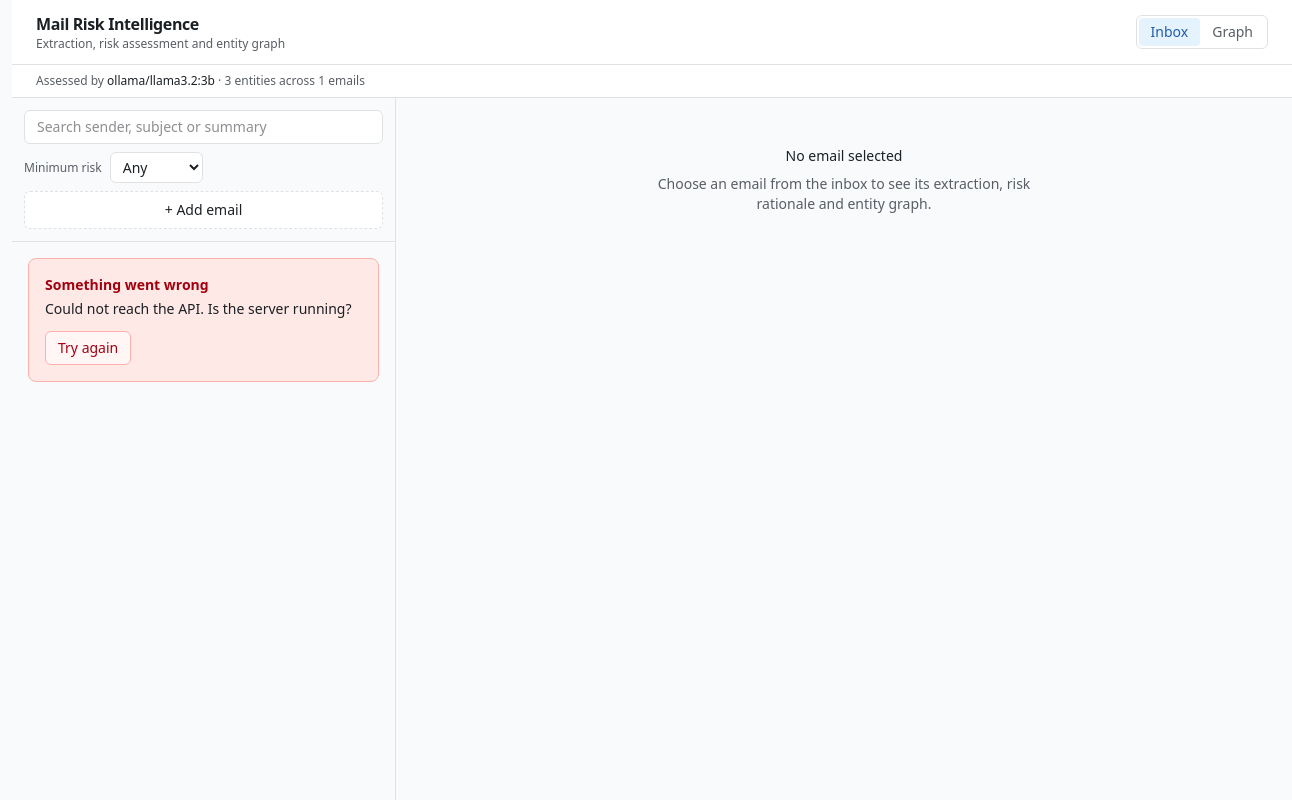
Test: App › shows a retryable error when the API is down, then recovers
Expected: the message shows "Could not reach the API", top-left (45, 299), bottom-right (352, 318)
Click the button "Try again".
click(88, 348)  # box top-left (45, 331), bottom-right (131, 365)
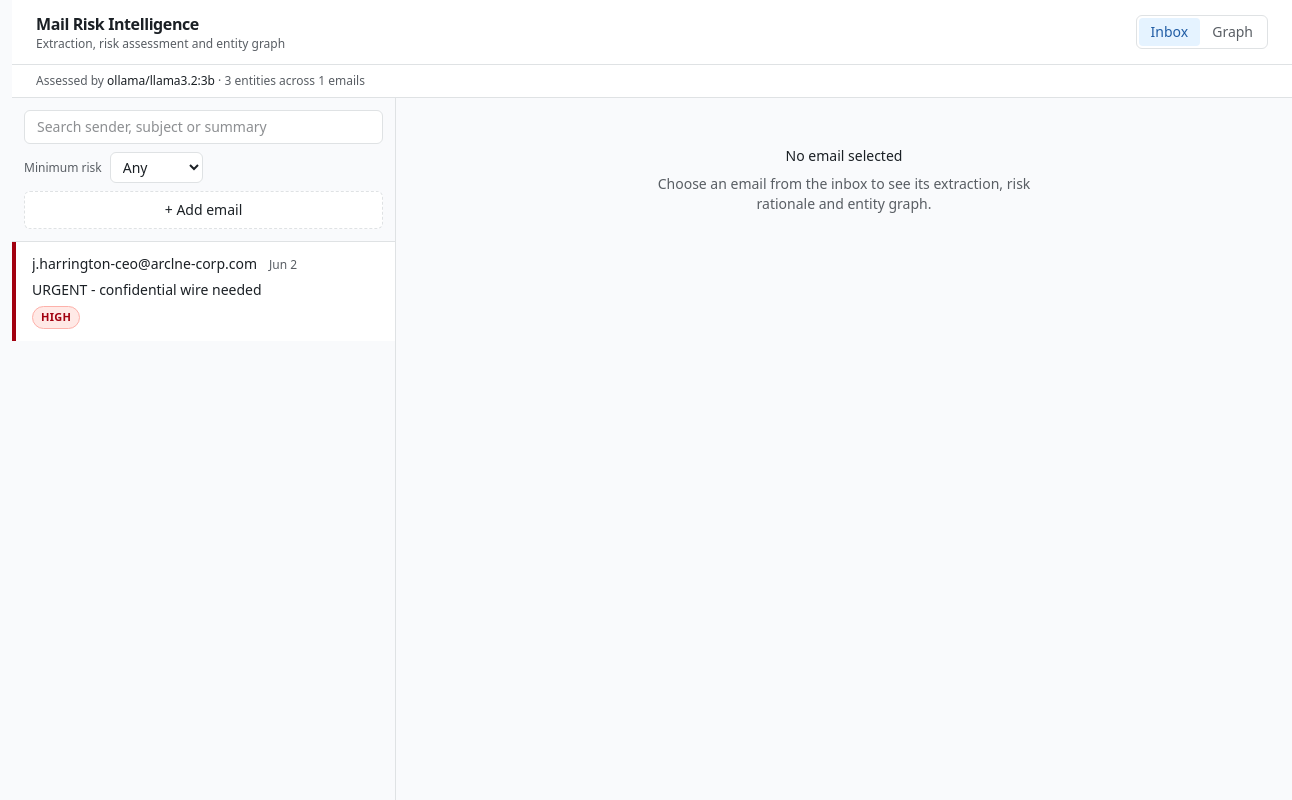
Result: the text "URGENT - confidential wire needed" is shown at top-left (32, 280), bottom-right (262, 300)
